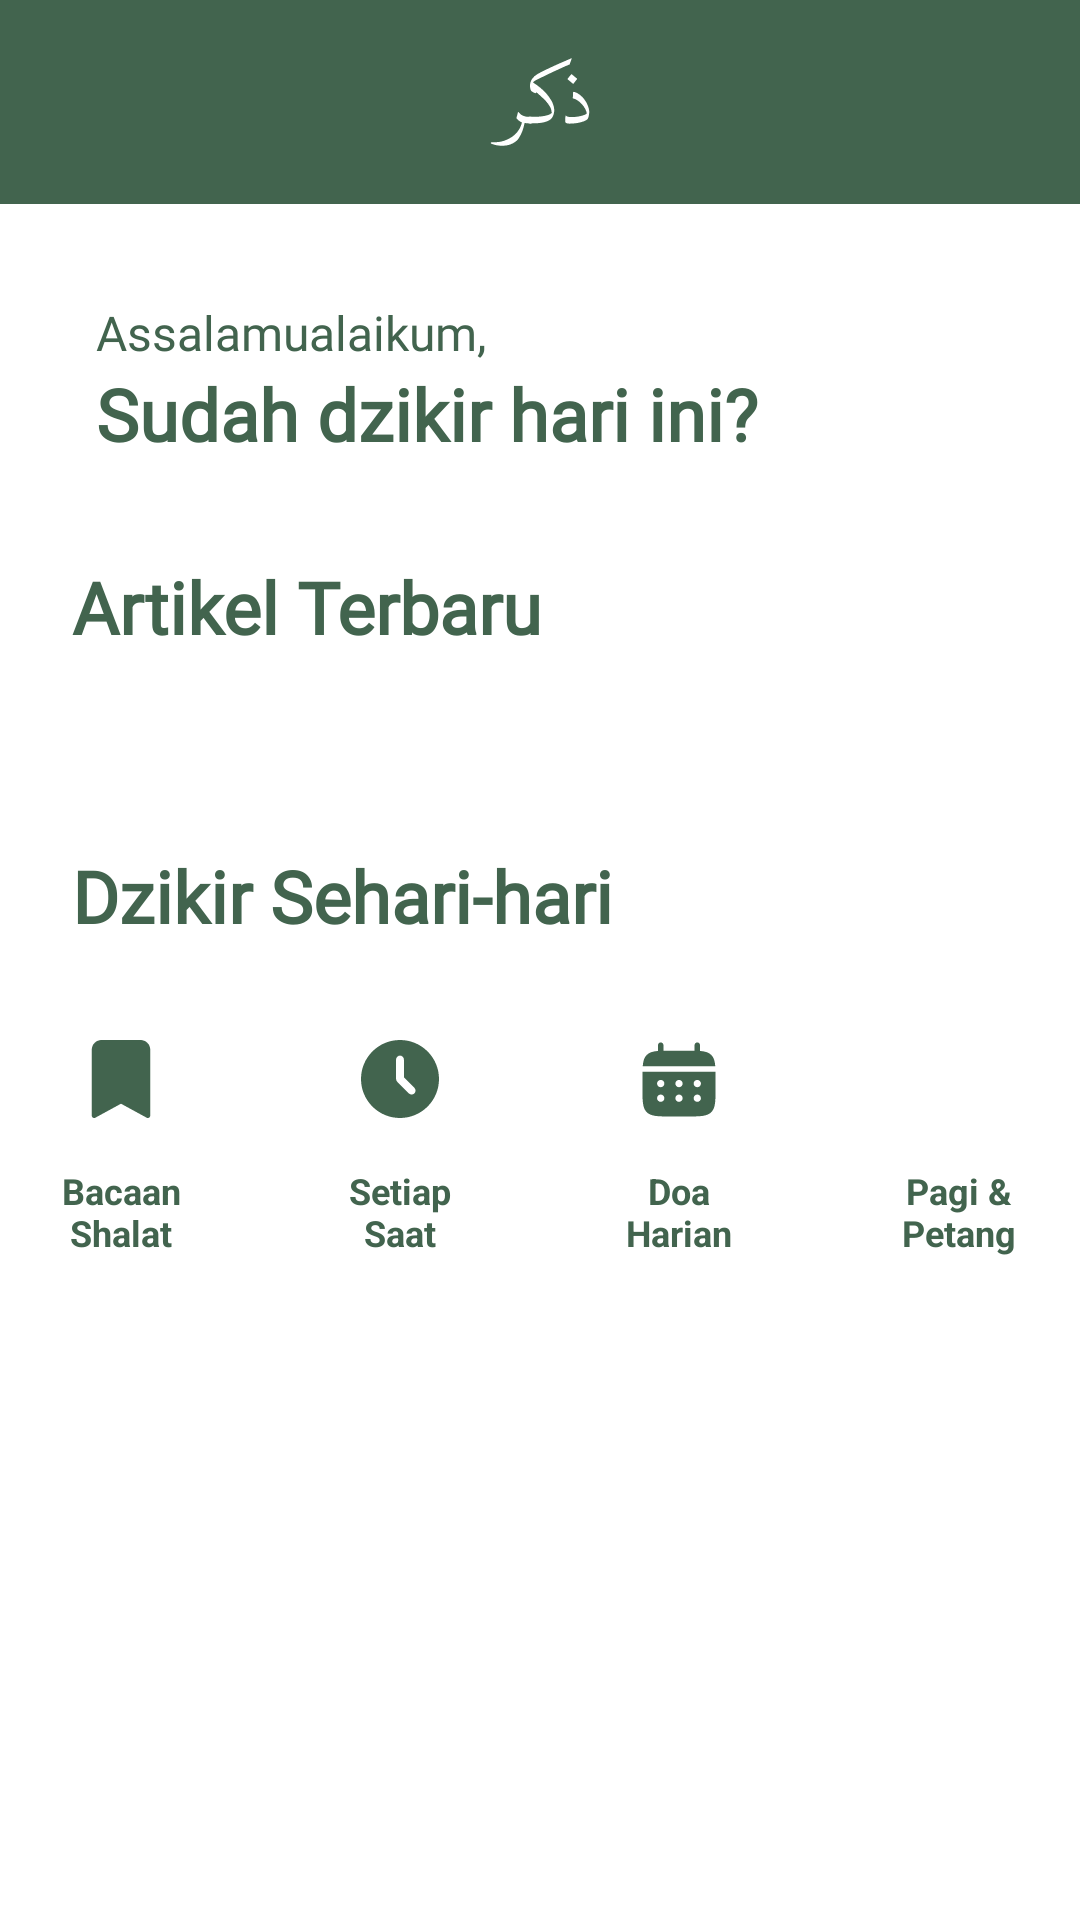

Icon bounding boxes for this 1080 x 1920 phone screenshot, format bbox(x1, y1, x2, y2):
dzikir harian: bbox(642, 1042, 716, 1117)
